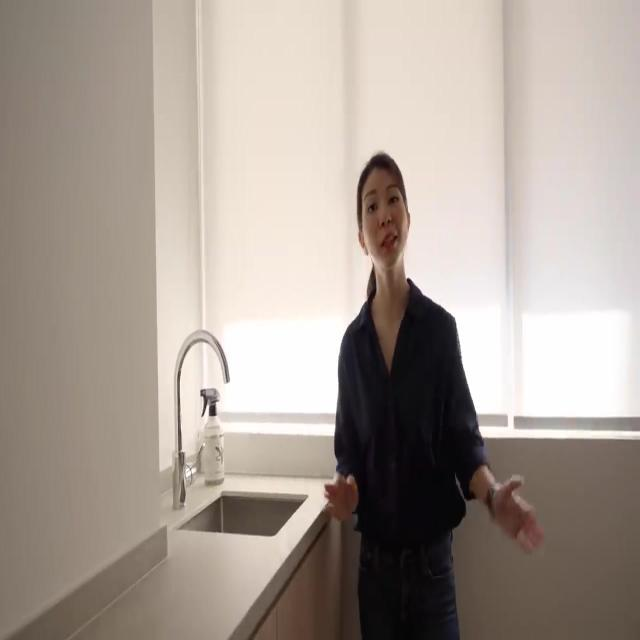person: (323, 150, 545, 639)
